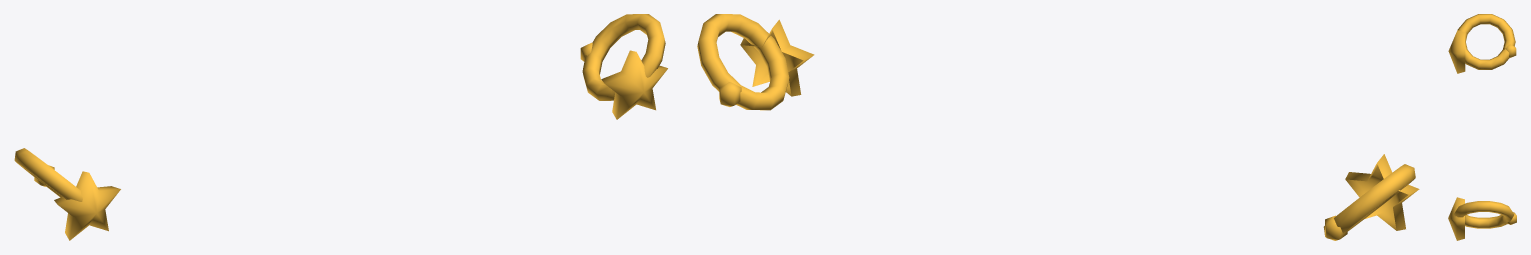
File: bear-attachments-piercings.fbx
3 views of the same model, side by side, from view 1: azimuth 30°, elevation 25°; view 2: azimuth 150°, elevation 25°; view 3: azimuth 270°, elevation 25° (orthographic). The views are drawn at different scales.
Parts seen in each view (by area): view 1: Bear__HelixR_Ring, Bear__HelixR_StarStud, Bear__HelixL_StarStud, Bear__HelixL_Ring; view 2: Bear__HelixR_Ring, Bear__HelixR_StarStud, Bear__HelixL_StarStud, Bear__HelixL_Ring; view 3: Bear__HelixL_Ring, Bear__HelixR_Ring, Bear__HelixL_StarStud, Bear__HelixR_StarStud.
Part boxes in pixels (bbox=[...]): Bear__HelixR_Ring: bbox=[582, 14, 665, 100]; Bear__HelixR_StarStud: bbox=[580, 42, 667, 119]; Bear__HelixL_StarStud: bbox=[34, 165, 120, 240]; Bear__HelixL_Ring: bbox=[14, 148, 82, 201]; Bear__HelixR_Ring: bbox=[697, 14, 789, 110]; Bear__HelixR_StarStud: bbox=[719, 19, 814, 106]; Bear__HelixL_StarStud: bbox=[1325, 154, 1419, 240]; Bear__HelixL_Ring: bbox=[1323, 164, 1415, 237]; Bear__HelixL_Ring: bbox=[1457, 14, 1515, 69]; Bear__HelixR_Ring: bbox=[1453, 201, 1514, 228]; Bear__HelixL_StarStud: bbox=[1448, 30, 1516, 73]; Bear__HelixR_StarStud: bbox=[1448, 197, 1516, 240].
Size of the model in its own units: 98.01 by 12.64 by 15.45.
